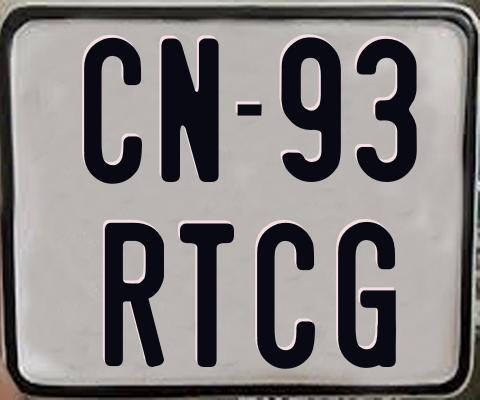3: (357, 39, 417, 185)
9: (278, 34, 339, 185)
C: (82, 38, 143, 189), (257, 222, 317, 368)
G: (336, 219, 400, 370)
N: (160, 38, 220, 185)
R: (103, 221, 168, 365)
T: (178, 223, 235, 373)
